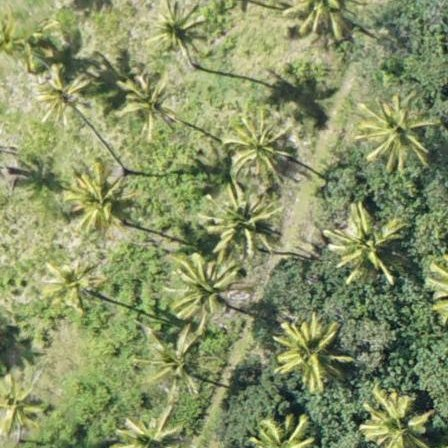palm_tree: (355, 89, 427, 166), (327, 208, 400, 281), (113, 67, 179, 137), (276, 320, 341, 385), (204, 192, 273, 253), (172, 256, 238, 317), (361, 389, 429, 448), (141, 326, 205, 387), (225, 115, 287, 171), (28, 63, 84, 123), (46, 257, 106, 313), (69, 168, 124, 228), (139, 1, 198, 56), (1, 374, 51, 435)
